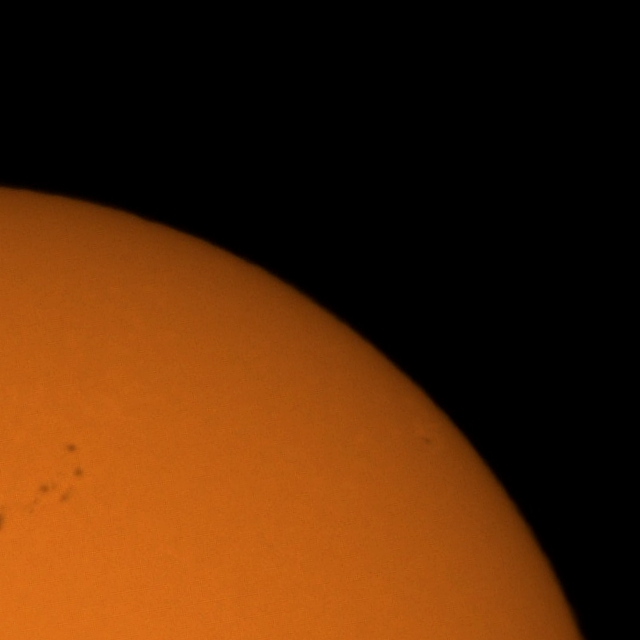sunspot: (34, 460, 91, 507), (64, 442, 78, 456)
